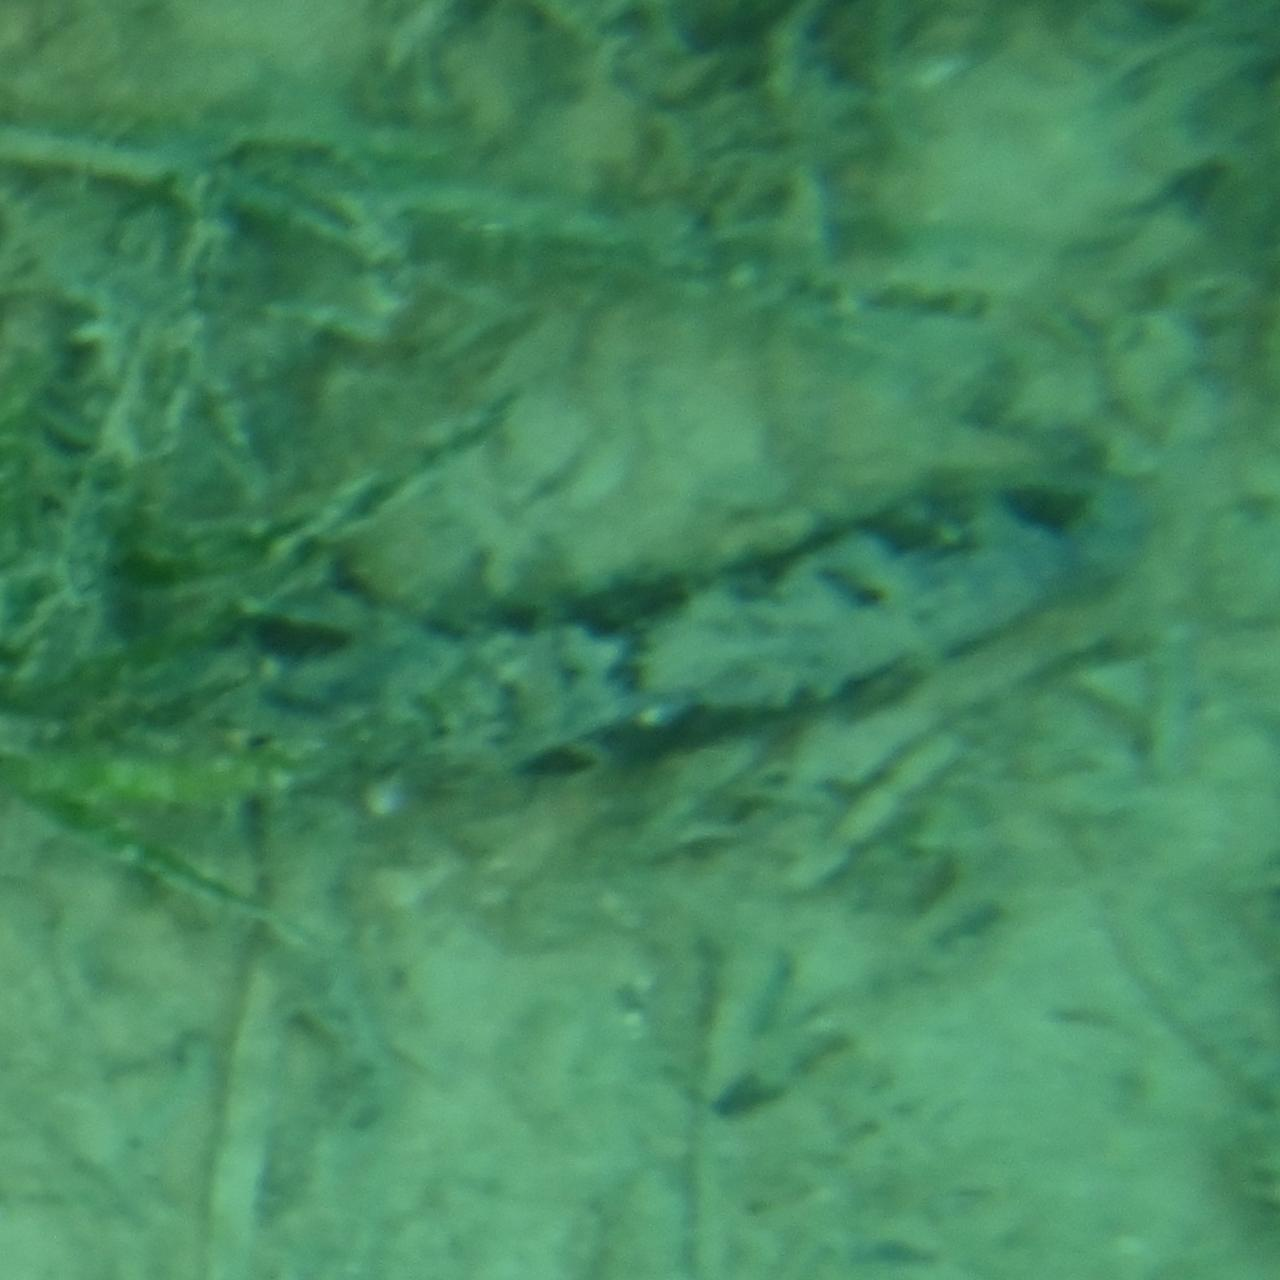Holothuria tubulosa: (99, 453, 1181, 827)
